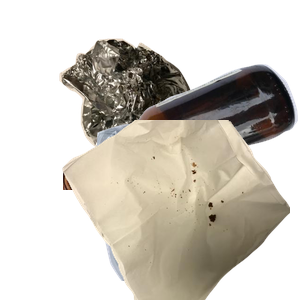glass: (63, 62, 300, 242)
metal: (57, 36, 241, 216)
plastic: (94, 120, 267, 300)
trash: (60, 120, 300, 300)
